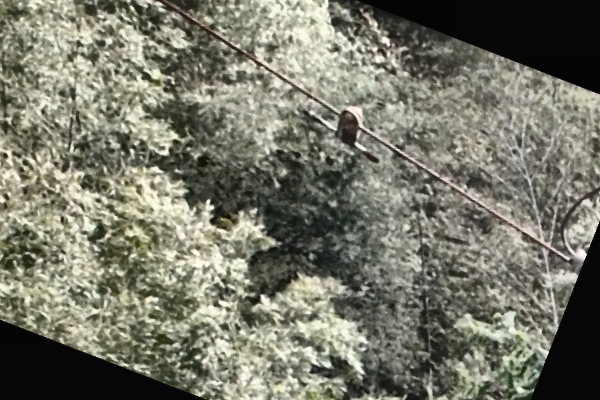damper_defect: (297, 101, 380, 167)
